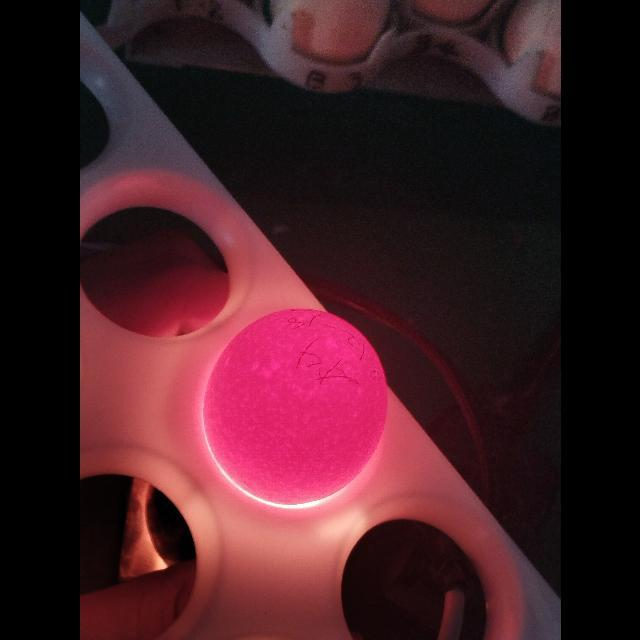Infertile: (198, 308, 386, 500)
